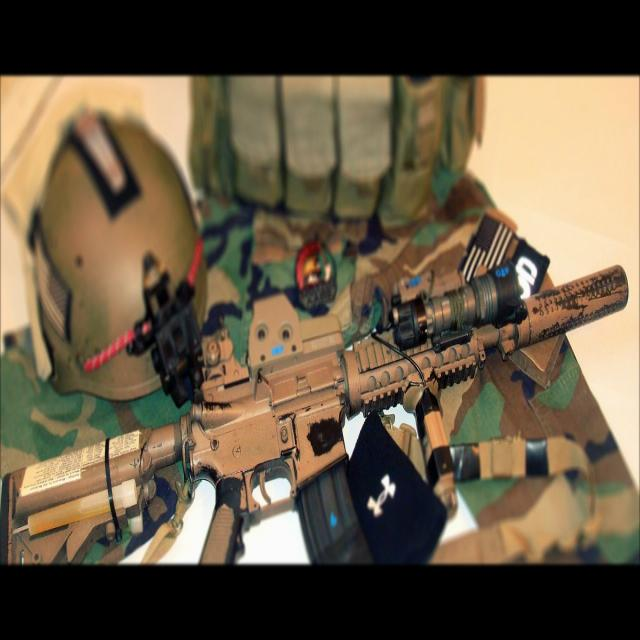firearm: (0, 257, 629, 568)
